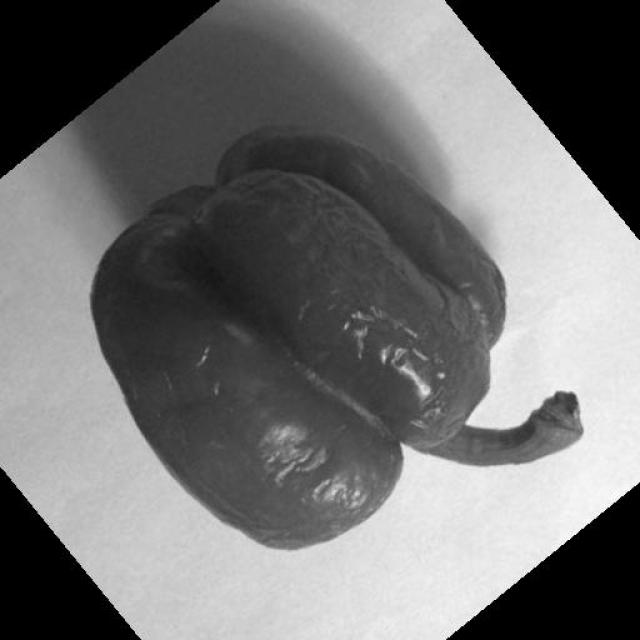Stale_Capsicum: (113, 124, 608, 513)
